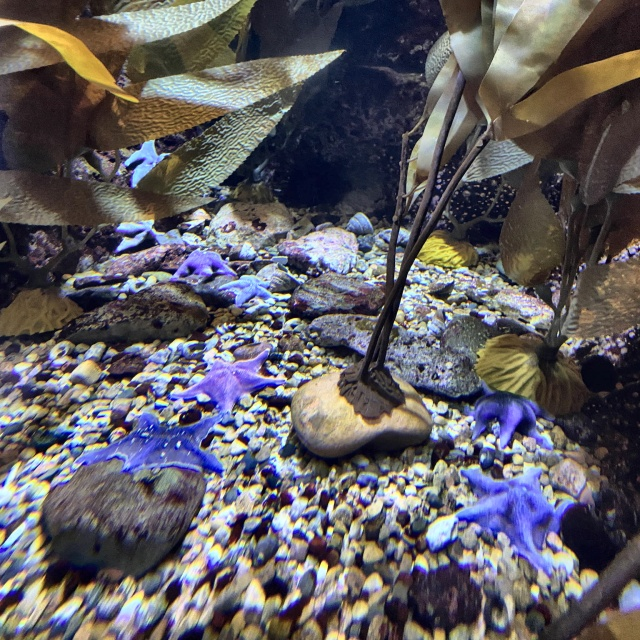starfish: (455, 464, 577, 573), (73, 409, 237, 475), (168, 347, 285, 411), (463, 385, 563, 456), (122, 137, 172, 190), (170, 249, 235, 282), (114, 217, 168, 254), (221, 272, 277, 307)
